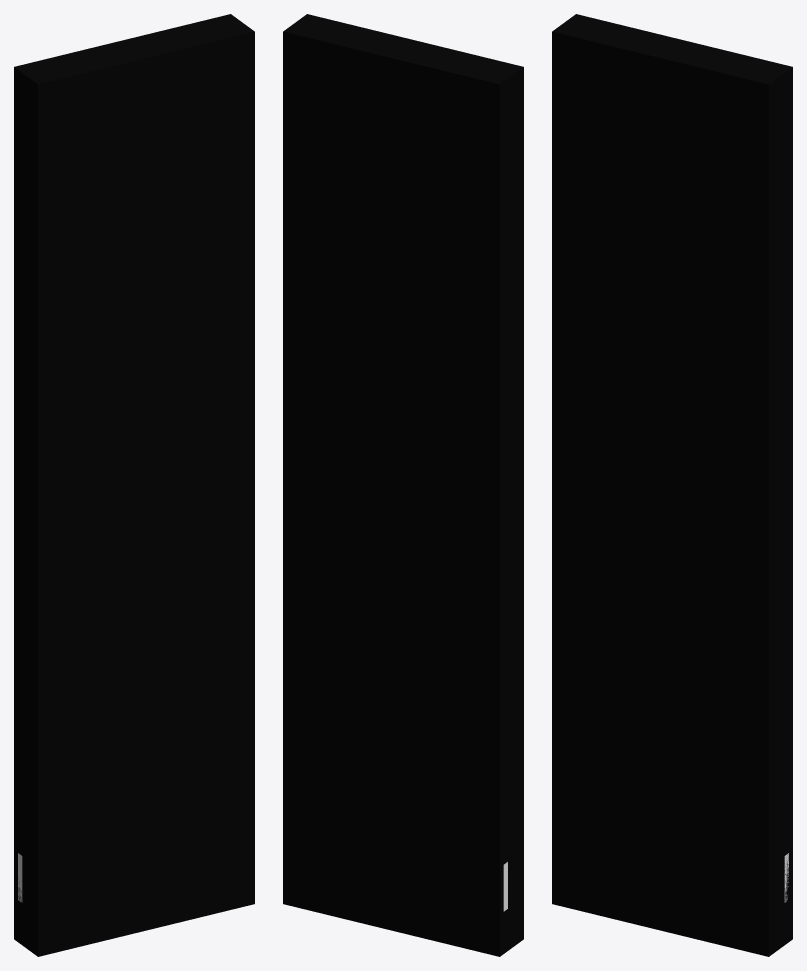
File: fence.glb
The picture shows the model from 3 angles, left to right: view 1: azimuth 30°, elevation 25°; view 2: azimuth 150°, elevation 25°; view 3: azimuth 330°, elevation 25°; orthographic projection.
Parts seen in each view (by area): view 1: group; view 2: group; view 3: group.
Boxes of the visible parts, x1,y1,x2,y2 form: group: (14,14,254,956); group: (283,14,523,956); group: (552,14,792,956).
Bounding box in the file's own units: 2.08 × 8 × 0.4.
Materials: 2 (1 with a texture image).
